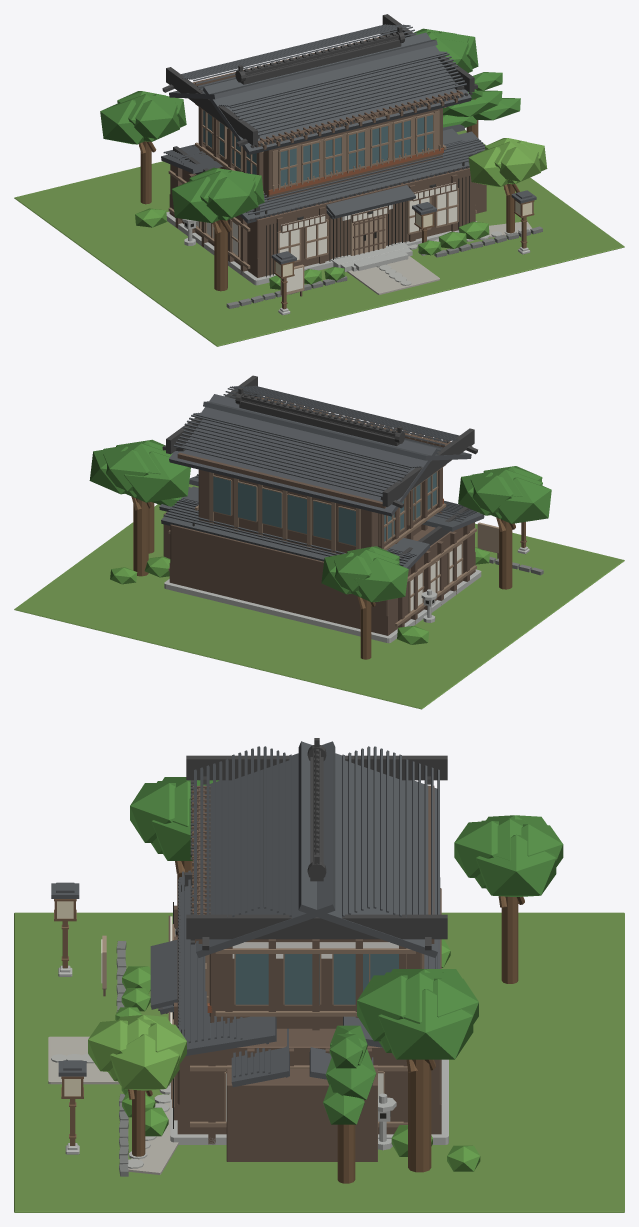
File: Zousyunkaku.glb
3 views of the same model, one above another, from view 1: azimuth 30°, elevation 25°; view 2: azimuth 150°, elevation 25°; view 3: azimuth 270°, elevation 25° (orthographic). The views are drawn at different scales.
Visible parts, largest first — view 1: 敷地全体芝生, 統合_蔵春閣_屋根, 統合_蔵春閣_濃木部, 統合_蔵春閣_樹木葉, 統合_蔵春閣_木部, 統合_蔵春閣_屋根縁, 統合_蔵春閣_ガラス, 統合_蔵春閣_障子, 統合_蔵春閣_樹木葉明, 統合_蔵春閣_石, 統合_蔵春閣_樹木幹, 統合_蔵春閣_低木 (+8 smaller); view 2: 敷地全体芝生, 統合_蔵春閣_屋根, 統合_蔵春閣_濃木部, 統合_蔵春閣_樹木葉, 統合_蔵春閣_屋根縁, 統合_蔵春閣_木部, 統合_蔵春閣_ガラス, 統合_蔵春閣_樹木幹, 統合_蔵春閣_石, 統合_蔵春閣_低木, 統合_蔵春閣_障子, 統合_蔵春閣_明木部; view 3: 敷地全体芝生, 統合_蔵春閣_屋根, 統合_蔵春閣_濃木部, 統合_蔵春閣_樹木葉, 統合_蔵春閣_屋根縁, 統合_蔵春閣_樹木幹, 統合_蔵春閣_樹木葉明, 統合_蔵春閣_ガラス, 統合_蔵春閣_木部, 統合_蔵春閣_低木, 統合_蔵春閣_砂利, 統合_蔵春閣_石 (+4 smaller).
Part boxes in pixels (bbox=[...]): 敷地全体芝生: bbox=[14, 130, 624, 346]; 統合_蔵春閣_屋根: bbox=[161, 24, 536, 264]; 統合_蔵春閣_濃木部: bbox=[169, 36, 486, 296]; 統合_蔵春閣_樹木葉: bbox=[100, 28, 520, 223]; 統合_蔵春閣_木部: bbox=[168, 94, 476, 268]; 統合_蔵春閣_屋根縁: bbox=[162, 14, 477, 221]; 統合_蔵春閣_ガラス: bbox=[203, 110, 432, 185]; 統合_蔵春閣_障子: bbox=[196, 182, 457, 291]; 統合_蔵春閣_樹木葉明: bbox=[468, 138, 547, 186]; 統合_蔵春閣_石: bbox=[166, 211, 476, 285]; 統合_蔵春閣_樹木幹: bbox=[138, 98, 519, 291]; 統合_蔵春閣_低木: bbox=[135, 208, 489, 289]; 敷地全体芝生: bbox=[14, 475, 624, 709]; 統合_蔵春閣_屋根: bbox=[159, 385, 484, 569]; 統合_蔵春閣_濃木部: bbox=[163, 395, 498, 635]; 統合_蔵春閣_樹木葉: bbox=[89, 439, 551, 602]; 統合_蔵春閣_屋根縁: bbox=[162, 375, 477, 560]; 統合_蔵春閣_木部: bbox=[168, 397, 476, 626]; 統合_蔵春閣_ガラス: bbox=[213, 472, 436, 545]; 統合_蔵春閣_樹木幹: bbox=[131, 496, 515, 659]; 統合_蔵春閣_石: bbox=[164, 569, 481, 643]; 統合_蔵春閣_低木: bbox=[110, 547, 489, 644]; 統合_蔵春閣_障子: bbox=[410, 544, 461, 610]; 統合_蔵春閣_明木部: bbox=[477, 522, 498, 553]; 敷地全体芝生: bbox=[14, 912, 624, 1212]; 統合_蔵春閣_屋根: bbox=[51, 741, 440, 1087]; 統合_蔵春閣_濃木部: bbox=[103, 785, 441, 1161]; 統合_蔵春閣_樹木葉: bbox=[130, 777, 563, 1124]; 統合_蔵春閣_屋根縁: bbox=[158, 738, 447, 1031]; 統合_蔵春閣_樹木幹: bbox=[128, 861, 524, 1183]; 統合_蔵春閣_樹木葉明: bbox=[88, 1015, 186, 1090]; 統合_蔵春閣_ガラス: bbox=[235, 954, 398, 1004]; 統合_蔵春閣_木部: bbox=[171, 789, 424, 1127]; 統合_蔵春閣_低木: bbox=[115, 939, 480, 1171]; 統合_蔵春閣_砂利: bbox=[48, 1036, 178, 1174]; 統合_蔵春閣_石: bbox=[169, 1059, 448, 1150].
Size of the model in its own units: 29.38 by 12.02 by 25.
